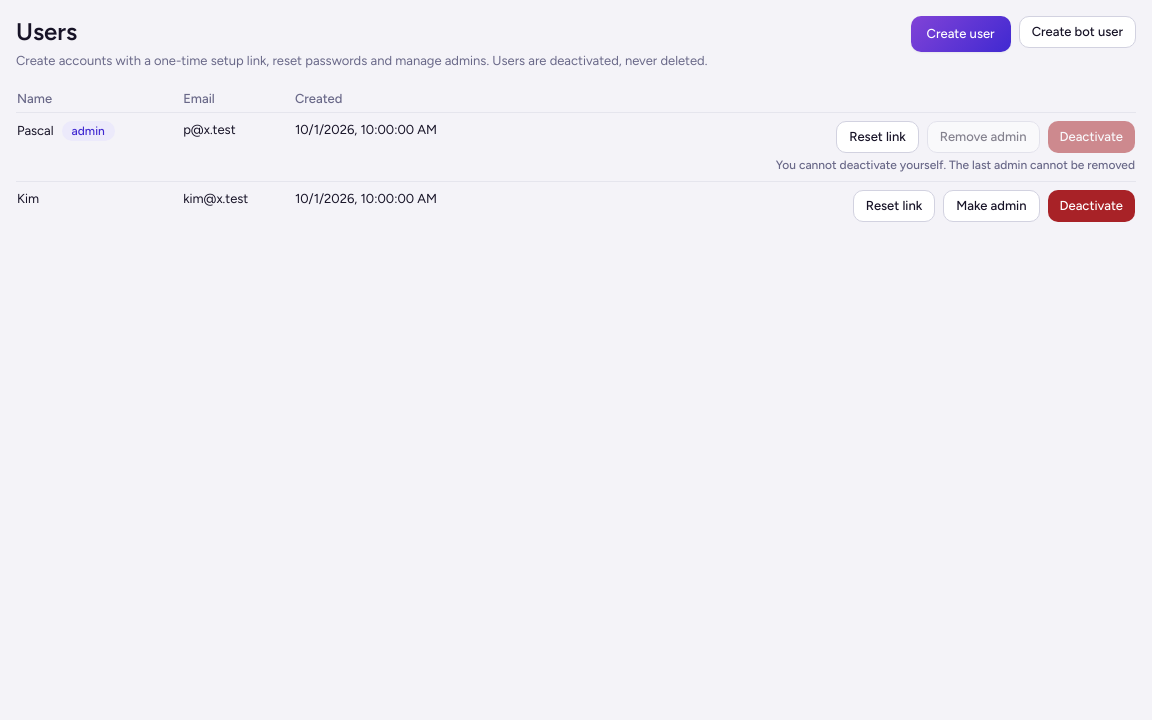
Scenario: UsersView › shows a refused deactivation (409)
Click the button with aria-label "Deactivate Kim" at (1091, 206), box [1048,190,1135,222]
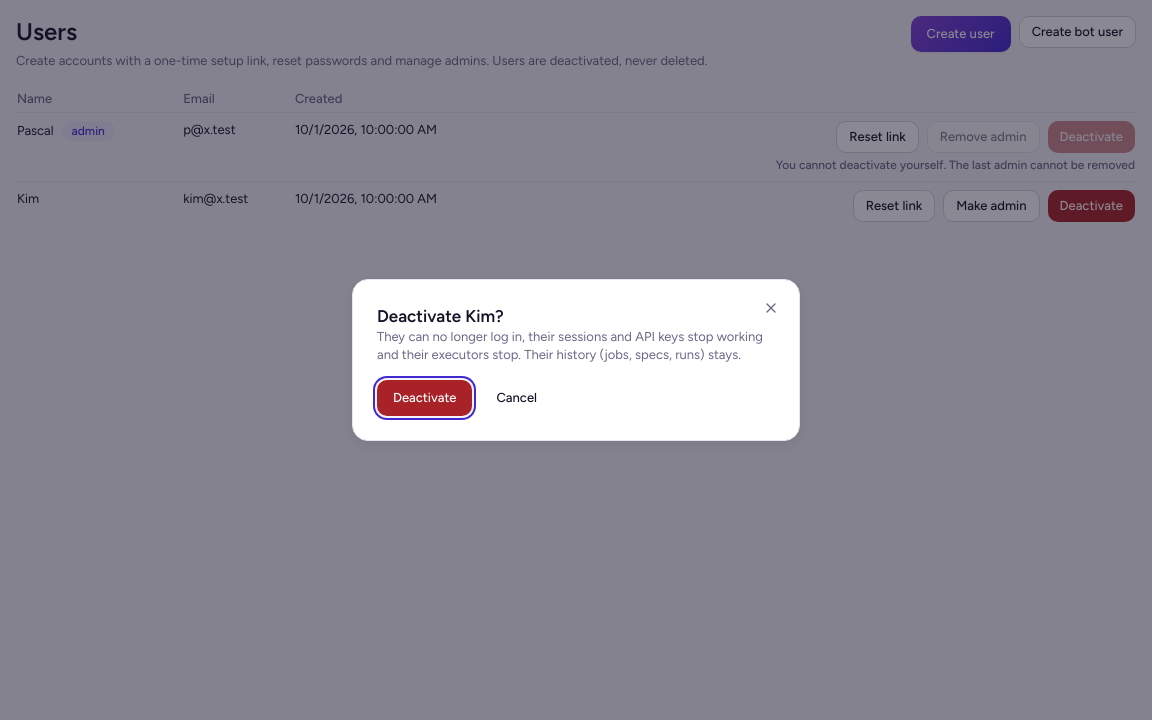
Click the button "Deactivate" at (425, 398), box [377,380,472,416]
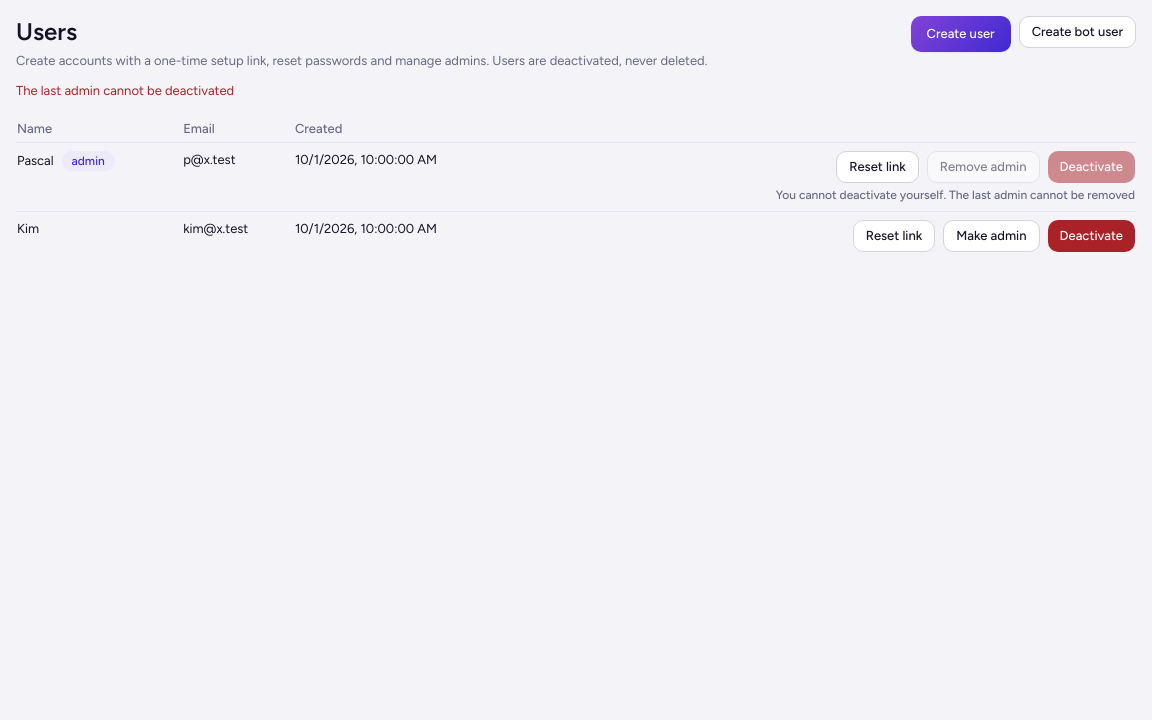
Now the message reads "The last admin cannot be deactivated", box [16,83,234,98]
